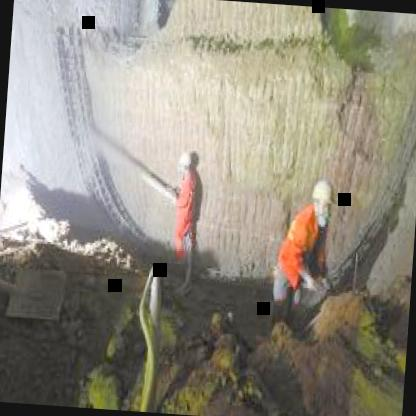helmet: (308, 178, 337, 228)
